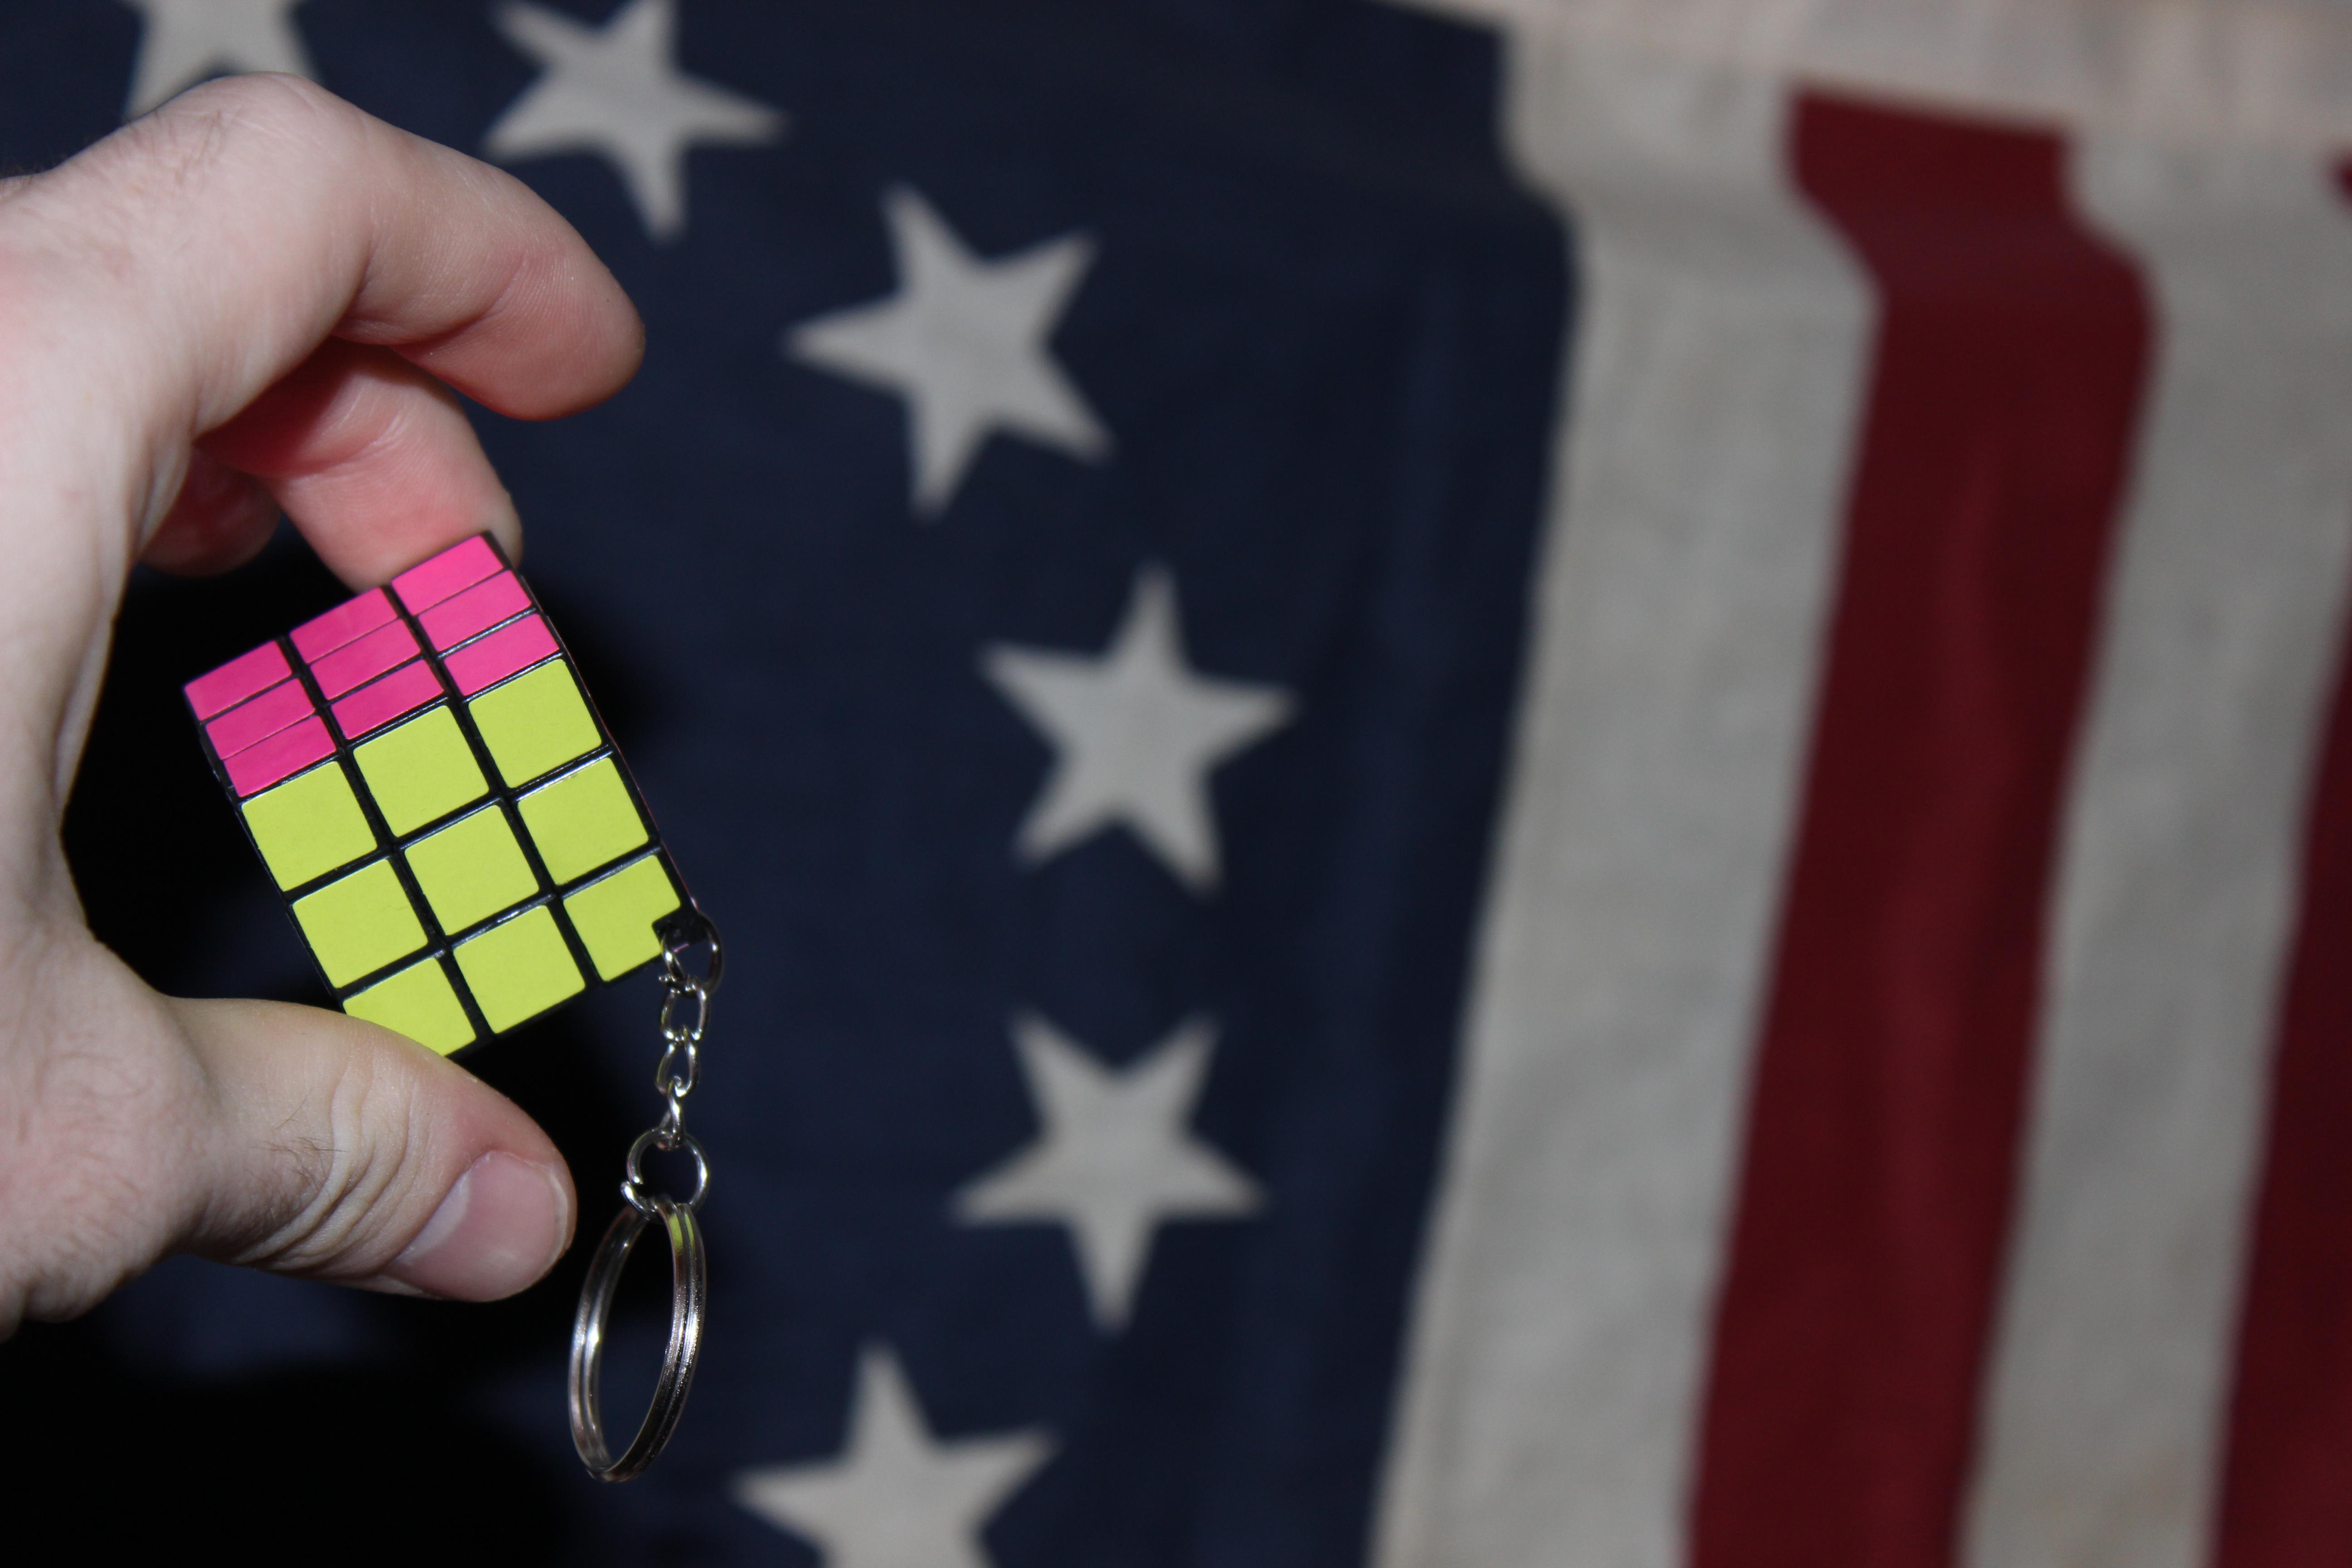rubiksCube: (149, 514, 721, 1097)
